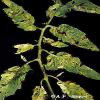Tomato Septoria leaf spot: (43, 51, 99, 82), (0, 61, 32, 100), (52, 25, 98, 52), (48, 0, 99, 21), (3, 0, 37, 30), (58, 80, 97, 99), (12, 43, 36, 54), (45, 38, 66, 50)
